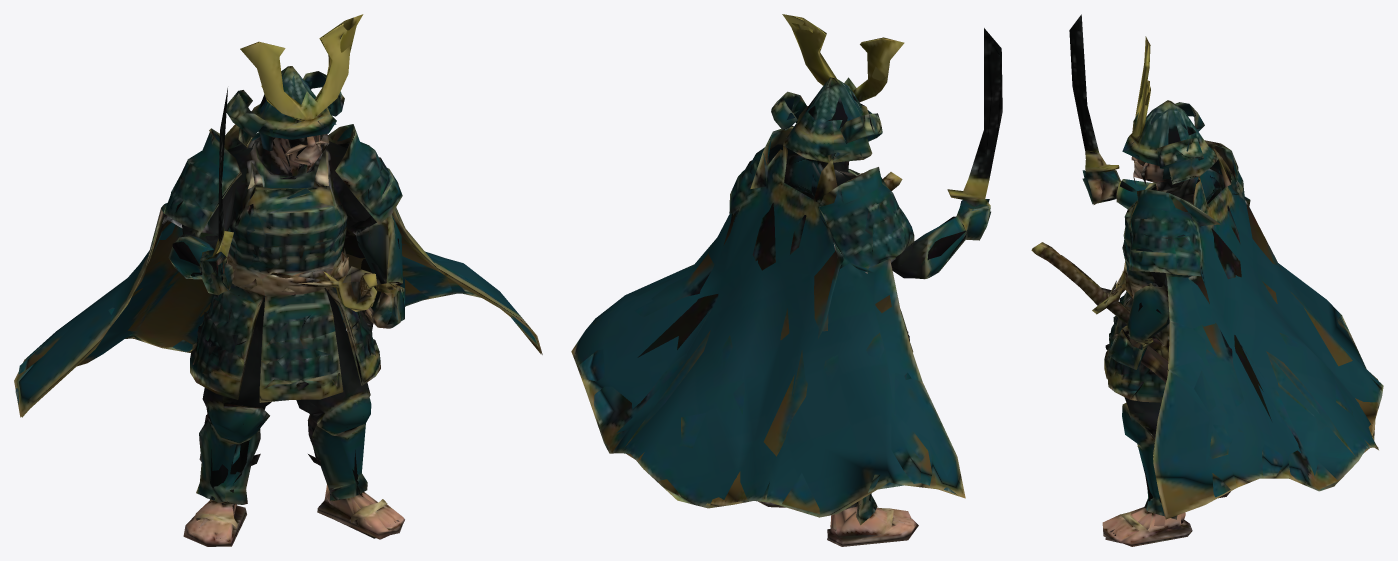
Rendered from detail_12_lo.glb.
The picture shows the model from 3 angles, left to right: view 1: azimuth 30°, elevation 25°; view 2: azimuth 150°, elevation 25°; view 3: azimuth 270°, elevation 25°; orthographic projection. The views are drawn at different scales.
Visible parts, largest first — view 1: Mesh_0.001; view 2: Mesh_0.001; view 3: Mesh_0.001.
Boxes of the visible parts, left/top/right/bottom form: Mesh_0.001: left=14, top=14, right=542, bottom=546; Mesh_0.001: left=571, top=14, right=1002, bottom=546; Mesh_0.001: left=1031, top=14, right=1383, bottom=546.
Bounding box in the file's own units: 0.9373 × 0.9891 × 0.7061.
1 material, 1 textured.
